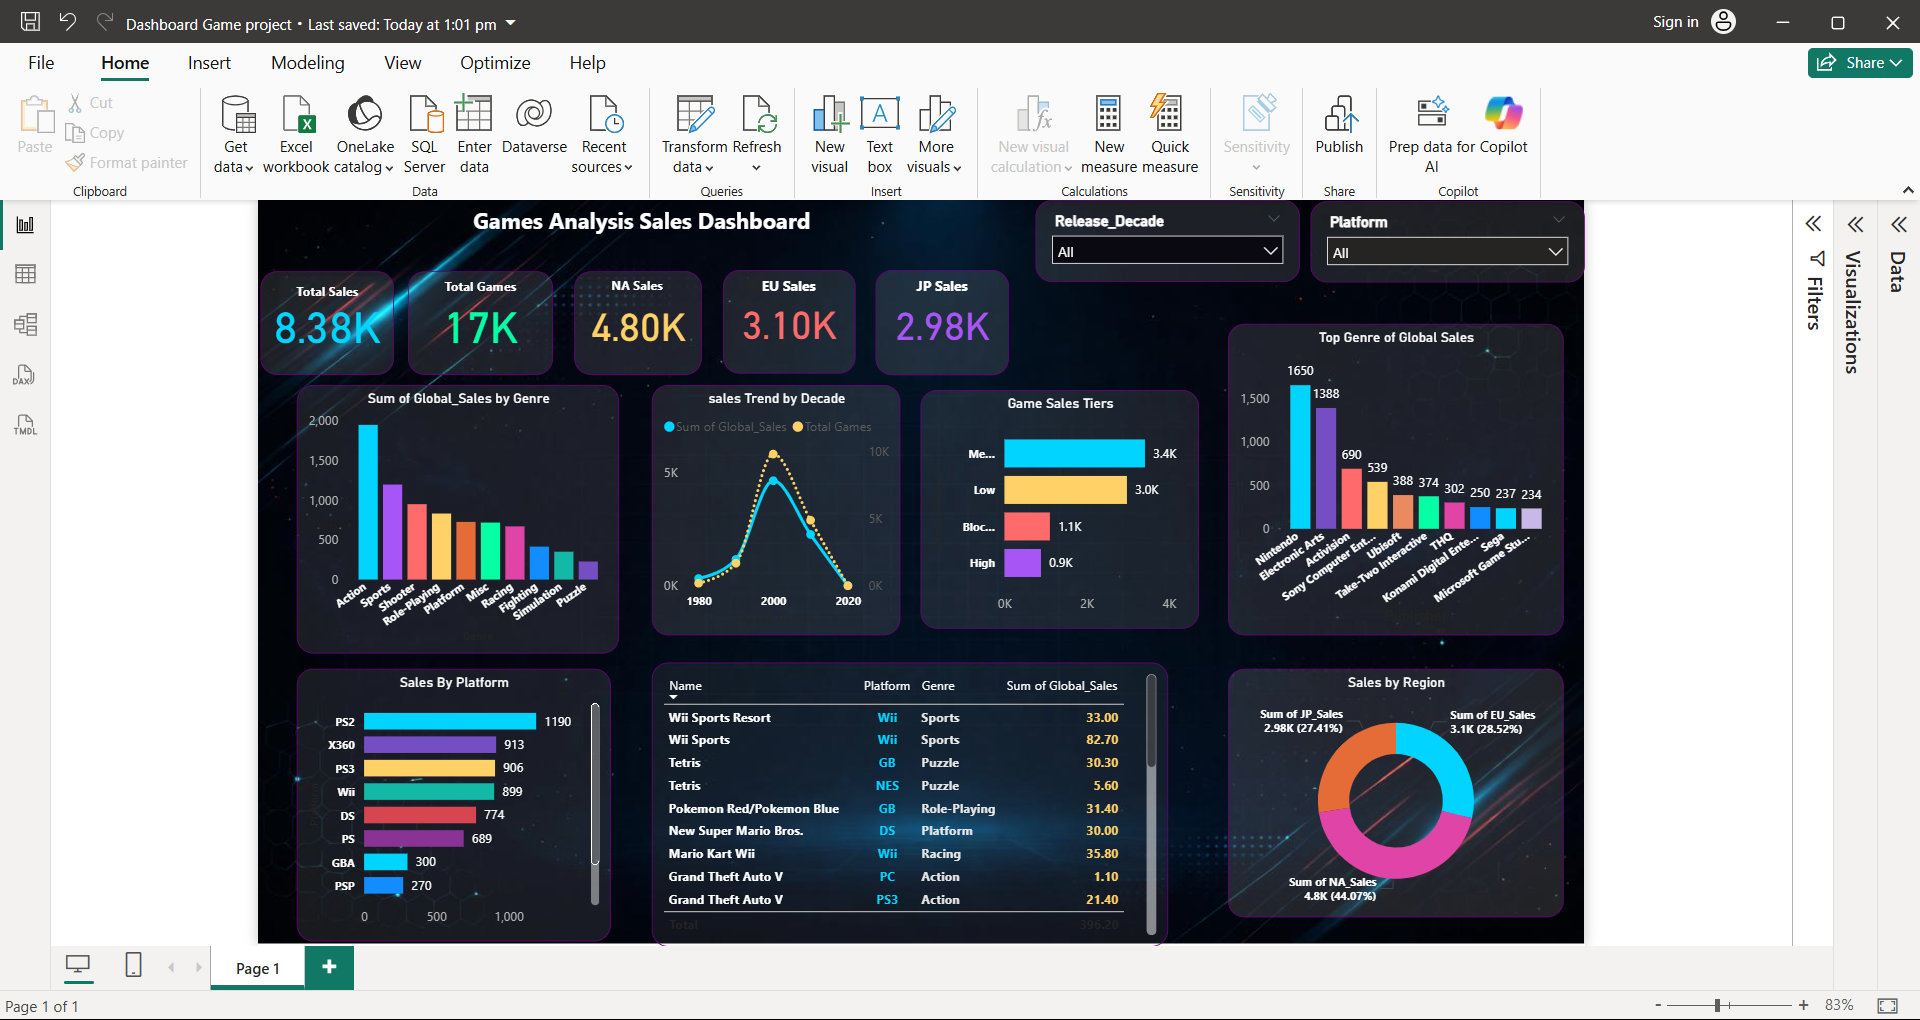

Layout of this report page (visuals, bound fields, positions):
{"tool":"powerbi","page":{"name":"Page 1","canvas":[1280,720],"ordinal":0},"visuals":[{"type":"textbox","box":[4.8,0,731.1,54.3],"z":0},{"type":"barChart","title":"Sales By Platform","fields":{"Category":["VideoGameClean.Platform"],"Y":["Sum(VideoGameClean.Global_Sales)"]},"box":[37.4,452.4,302.8,263],"z":1000},{"type":"columnChart","title":"Top Genre of Global Sales","fields":{"Category":["VideoGameClean1.Publisher"],"Y":["Sum(VideoGameClean1.Global_Sales)"]},"box":[935.9,119.4,323.8,300.5],"z":2000},{"type":"card","fields":{"Values":["VideoGameClean.Total Global Sales"]},"box":[2.4,68.8,129.1,100.1],"z":3000},{"type":"card","fields":{"Values":["VideoGameClean.Total Games"]},"box":[144.8,68.8,139.9,100.1],"z":4000},{"type":"card","fields":{"Values":["Sum(VideoGameClean.NA_Sales)"]},"box":[304.6,68.6,123.5,100.2],"z":5000},{"type":"card","fields":{"Values":["Sum(VideoGameClean.EU_Sales)"]},"box":[448.7,67.2,127.6,100.2],"z":6000},{"type":"card","fields":{"Values":["Sum(VideoGameClean.JP_Sales)"]},"box":[595.5,67.2,129,101.5],"z":7000},{"type":"columnChart","fields":{"Category":["VideoGameClean.Genre"],"Y":["Sum(VideoGameClean.Global_Sales)"]},"box":[37.4,178.6,311.3,259.4],"z":8000},{"type":"lineChart","title":"sales Trend by Decade","fields":{"Category":["VideoGameClean.Release_Decade"],"Y":["Sum(VideoGameClean.Global_Sales)"],"Y2":["VideoGameClean.Total Games"]},"box":[380.1,178.4,240.1,241.5],"z":9000},{"type":"slicer","fields":{"Values":["VideoGameClean.Release_Decade"]},"box":[750.6,0,255.2,79.6],"z":10000},{"type":"slicer","fields":{"Values":["VideoGameClean.Platform"]},"box":[1015.4,1.4,264.8,78.2],"z":11000},{"type":"tableEx","title":"Sales by Region Comparison","fields":{"Values":["VideoGameClean.Name","VideoGameClean.Platform","VideoGameClean.Genre","Sum(VideoGameClean.Global_Sales)"]},"box":[380.1,446,498.1,274.4],"z":12000},{"type":"donutChart","title":"Sales by Region","fields":{"Y":["Sum(VideoGameClean.EU_Sales)","Sum(VideoGameClean.NA_Sales)","Sum(VideoGameClean.JP_Sales)"]},"box":[935.9,452.8,323.8,240.1],"z":13000},{"type":"clusteredBarChart","title":"Game Sales Tiers","fields":{"Category":["VideoGameClean.Sales_Category"],"Y":["VideoGameClean.Total Global Sales"]},"box":[639.5,183.9,269,230.5],"z":14000},{"type":"textbox","box":[20.5,73.6,92.9,45.8],"z":15000},{"type":"textbox","box":[162.9,68.8,103.8,38.6],"z":16000},{"type":"textbox","box":[314.2,67.2,104.3,39.8],"z":17000},{"type":"textbox","box":[463.8,68.6,81,38.4],"z":18000},{"type":"textbox","box":[607.9,68.6,104.3,39.8],"z":19000}]}

Visuals, with their boxes on the page's 1280x720 design canvas (x1, y1, x2, y2). These are canvas units, not pixel positions in the 1920x1020 screenshot, which may show the page scaled, cropped or inside an application window:
textbox: bbox(5, 0, 736, 54)
"Sales By Platform" barChart: bbox(37, 452, 340, 715)
"Top Genre of Global Sales" columnChart: bbox(936, 119, 1260, 420)
card - VideoGameClean.Total Global Sales: bbox(2, 69, 132, 169)
card - VideoGameClean.Total Games: bbox(145, 69, 285, 169)
card - Sum(VideoGameClean.NA_Sales): bbox(305, 69, 428, 169)
card - Sum(VideoGameClean.EU_Sales): bbox(449, 67, 576, 167)
card - Sum(VideoGameClean.JP_Sales): bbox(596, 67, 724, 169)
columnChart - VideoGameClean.Genre x Sum(VideoGameClean.Global_Sales): bbox(37, 179, 349, 438)
"sales Trend by Decade" lineChart: bbox(380, 178, 620, 420)
slicer - VideoGameClean.Release_Decade: bbox(751, 0, 1006, 80)
slicer - VideoGameClean.Platform: bbox(1015, 1, 1280, 80)
"Sales by Region Comparison" tableEx: bbox(380, 446, 878, 720)
"Sales by Region" donutChart: bbox(936, 453, 1260, 693)
"Game Sales Tiers" clusteredBarChart: bbox(640, 184, 908, 414)
textbox: bbox(20, 74, 113, 119)
textbox: bbox(163, 69, 267, 107)
textbox: bbox(314, 67, 418, 107)
textbox: bbox(464, 69, 545, 107)
textbox: bbox(608, 69, 712, 108)
